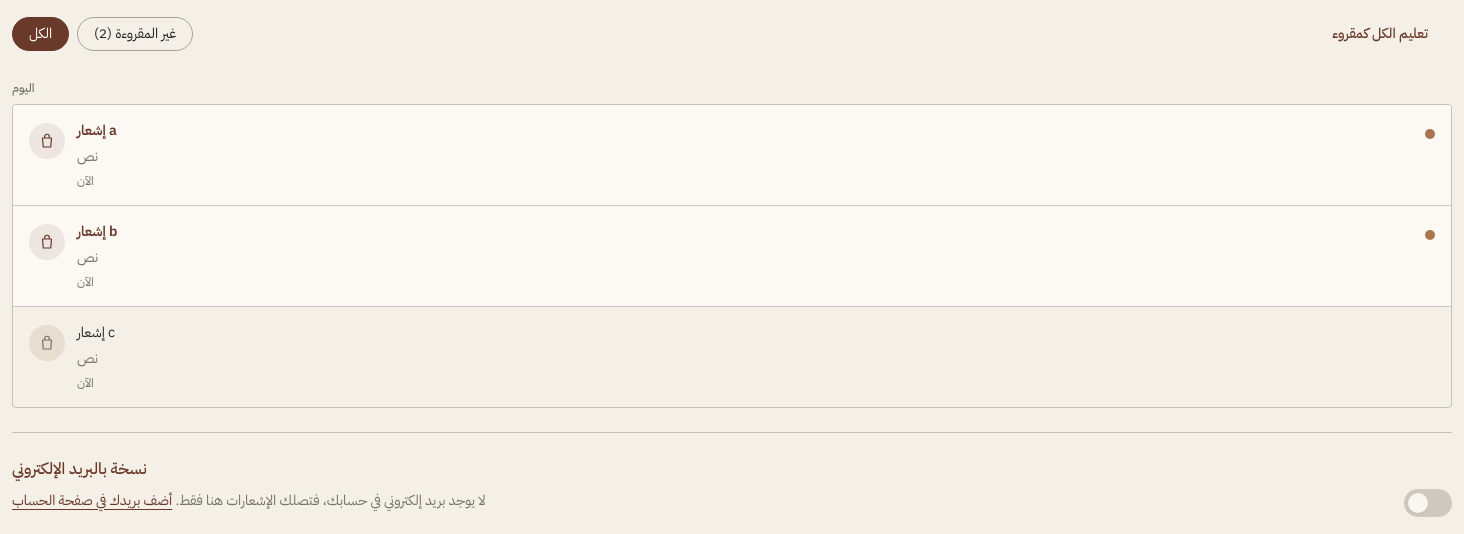
Test: NotificationsCenter › lists, marks one read on open, and marks all read
The image size is (1464, 534).
expect the number of pictures named "غير مقروء" is 2: met, box [1425,129,1435,139]; [1425,230,1435,240]
expect the tab "غير المقروءة (2)" is shown: met, box [77,17,193,51]
Click the link "إشعار a نص الآن".
click(47, 141)  # box [13,105,1451,205]
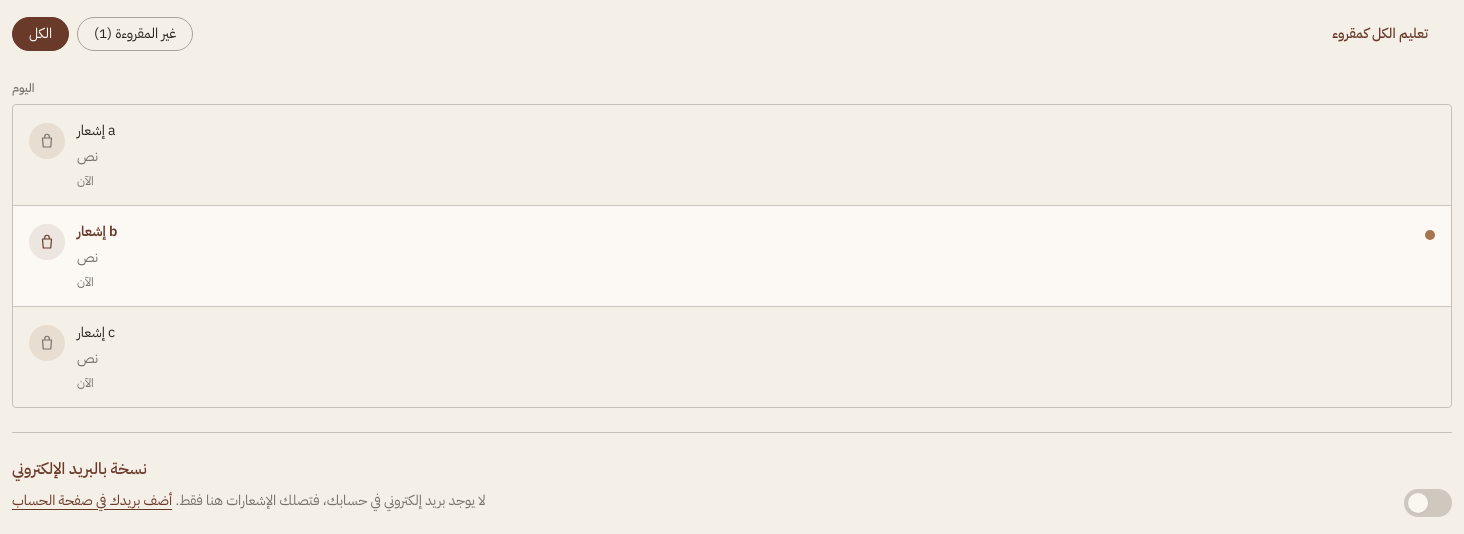
expect the number of pictures named "غير مقروء" is 1: met, box [1425,230,1435,240]
Click the button "تعليم الكل كمقروء".
click(1380, 34)  # box [1308,12,1452,56]
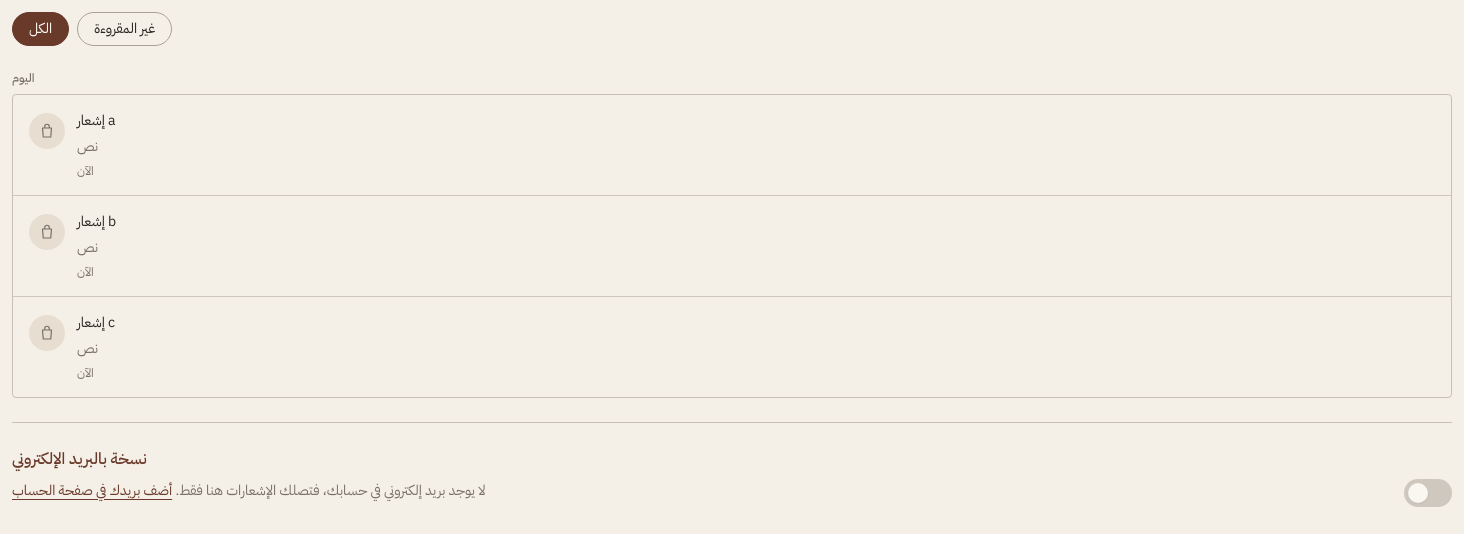
expect the button "تعليم الكل كمقروء" is gone: met
